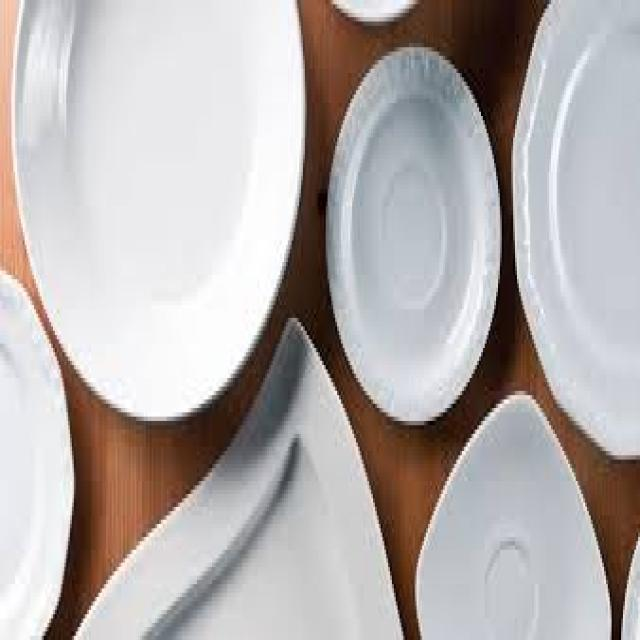Plate: (9, 0, 324, 437), (331, 45, 505, 422)
